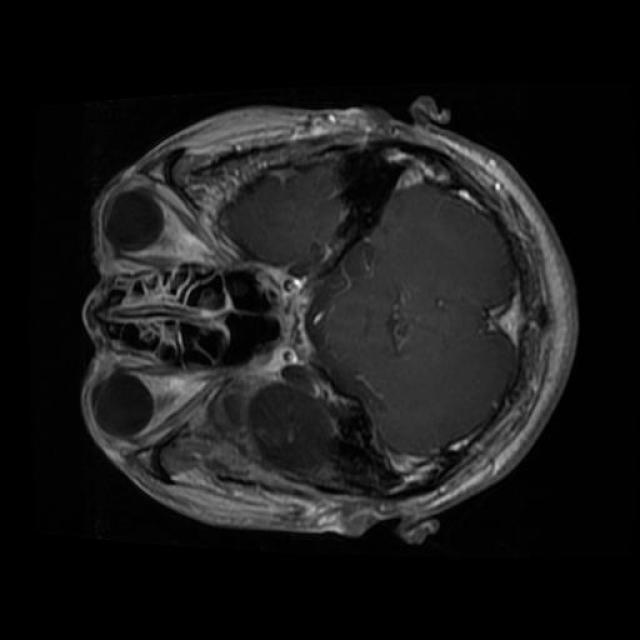Glioma: (248, 367, 359, 480)
